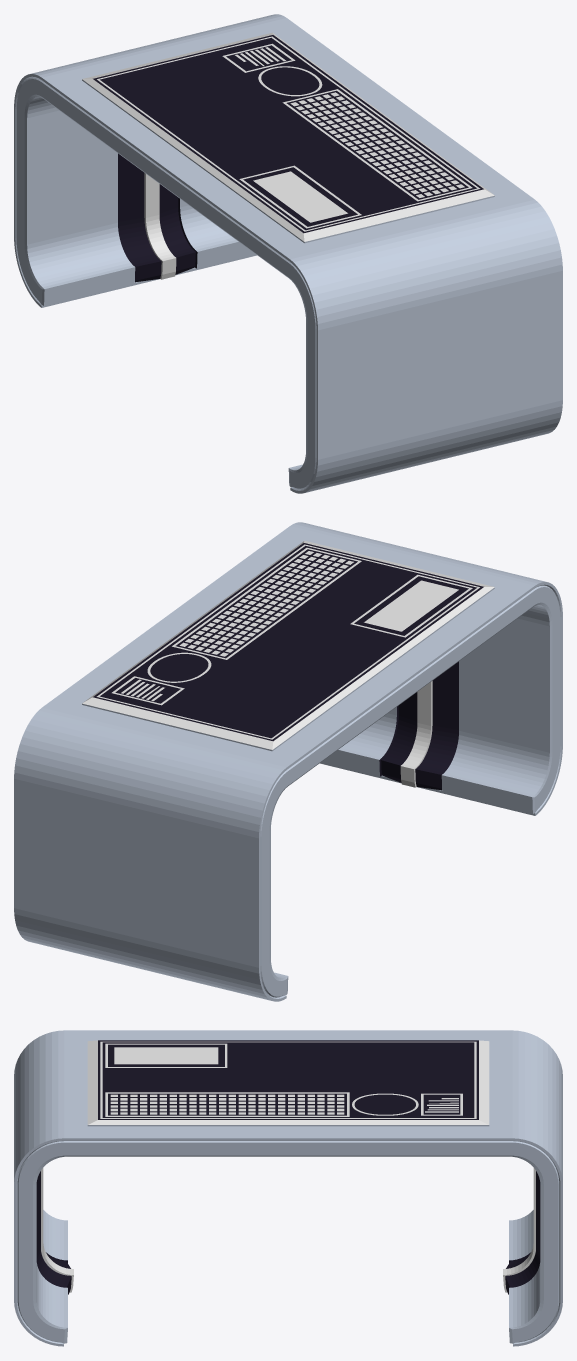
Rendered from blueprinter.fbx.
3 views of the same model, one above another, from view 1: azimuth 30°, elevation 25°; view 2: azimuth 150°, elevation 25°; view 3: azimuth 270°, elevation 25° (orthographic). The views are drawn at different scales.
Visible parts, largest first — view 1: Table; view 2: Table; view 3: Table.
Part boxes in pixels (box(x1,y1,x2,y2)): Table: box(14, 14, 562, 493); Table: box(14, 522, 562, 1001); Table: box(14, 1030, 562, 1346).
Size of the model in its own units: 800 by 734 by 1720.
